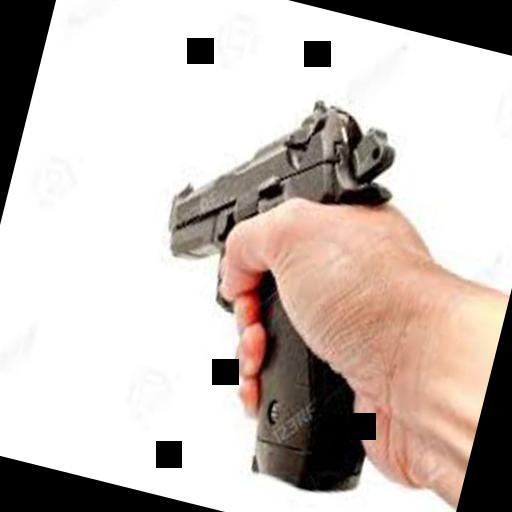Handgun: (110, 50, 452, 501)
